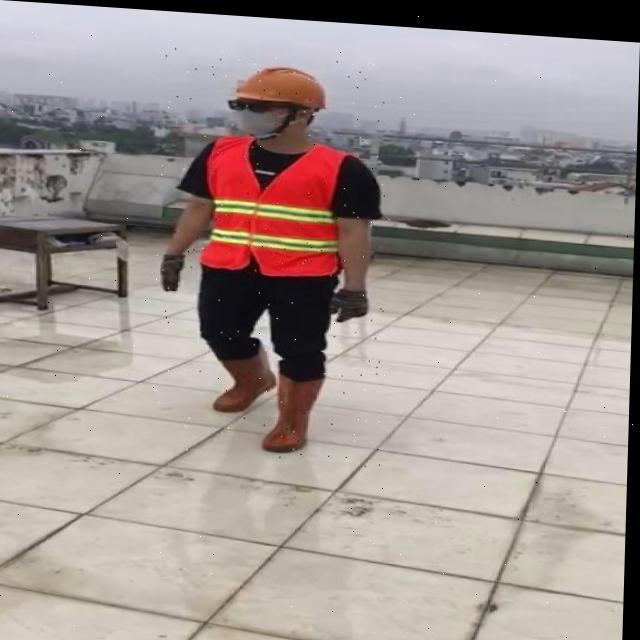Gloves: (332, 281, 371, 319), (163, 250, 187, 289)
Helmet: (231, 59, 330, 107)
Safety-Boot: (265, 364, 327, 450), (216, 335, 280, 412)
Safety-Vest: (201, 128, 358, 277)
